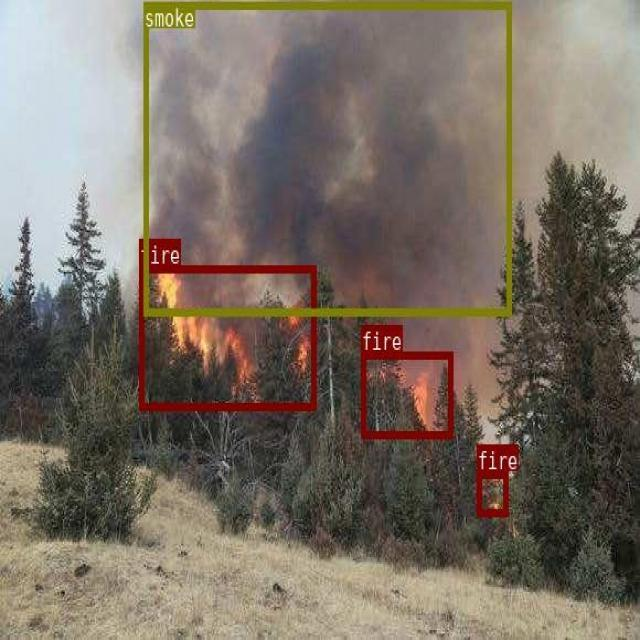fire: (139, 265, 315, 409), (360, 350, 452, 438), (476, 471, 507, 515)
smoke: (143, 2, 510, 314)
